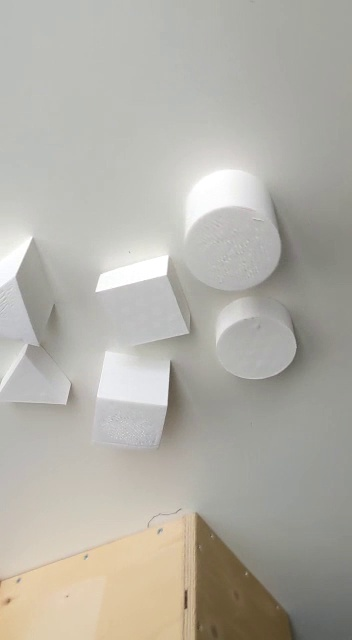Clyinder_short: (210, 293, 298, 382)
Cube: (88, 350, 175, 454)
Cube_short: (96, 250, 192, 357)
Cylinder: (178, 165, 282, 292)
Triangle: (1, 232, 59, 348)
Triangle_short: (1, 337, 73, 412)
